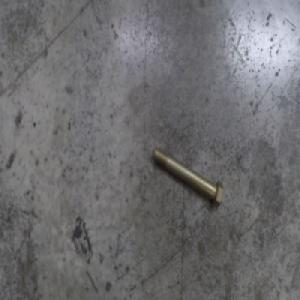Bolt: (151, 143, 223, 209)
